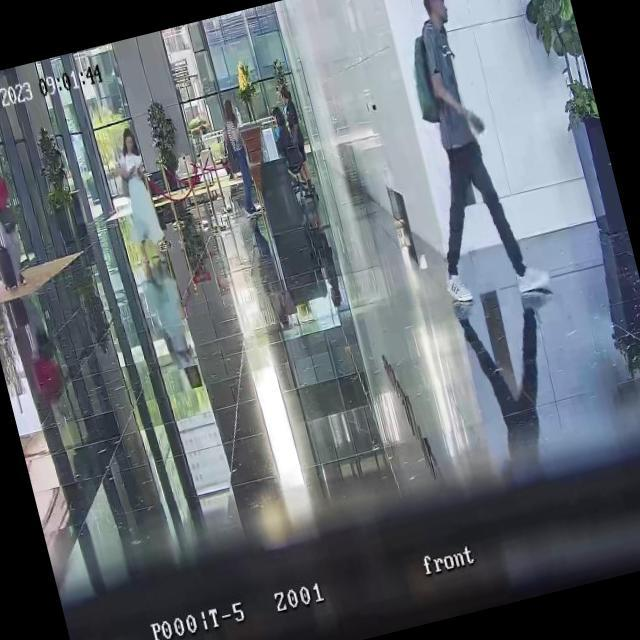person: (374, 0, 533, 306), (106, 128, 166, 250), (214, 97, 262, 218), (276, 82, 318, 200), (0, 151, 32, 289), (275, 81, 310, 166), (270, 104, 304, 176)
